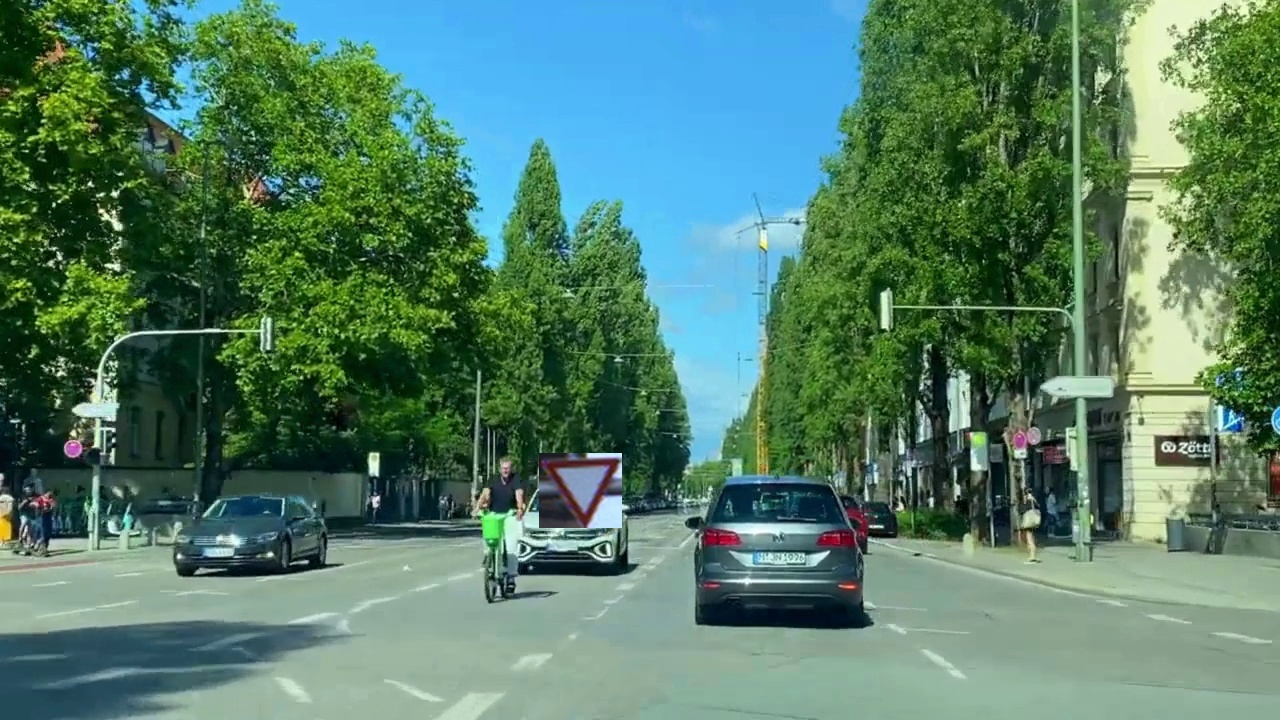Yield: (539, 453, 622, 528)
